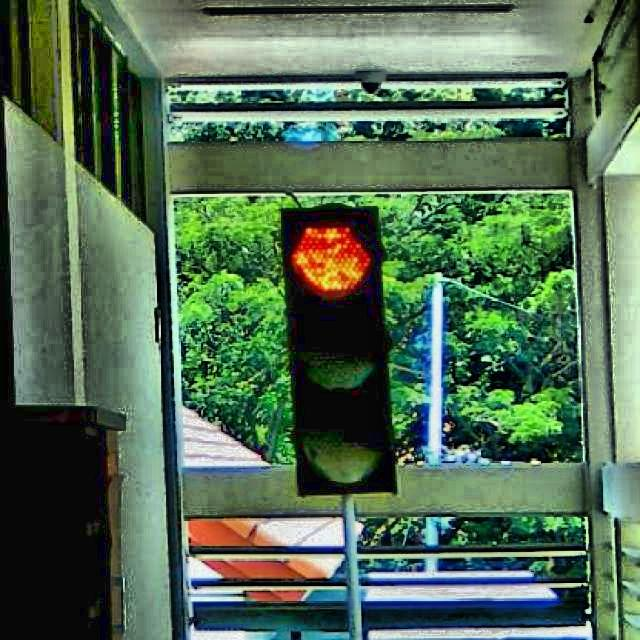red: (289, 204, 394, 502)
